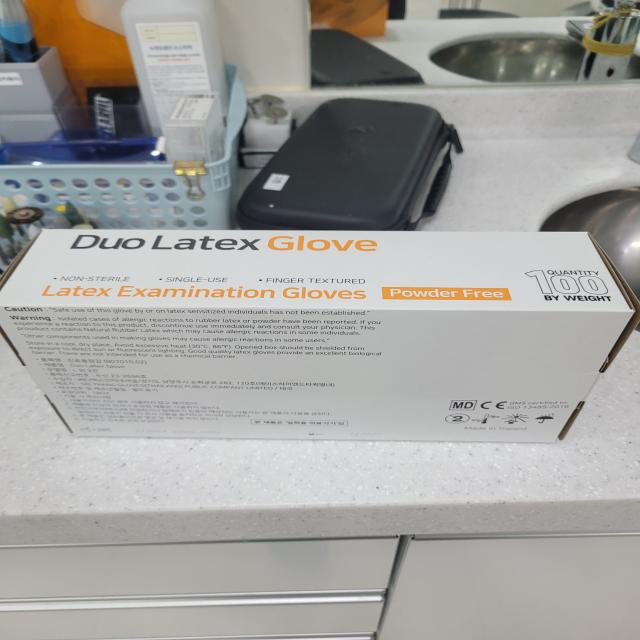glove: (6, 218, 640, 471)
